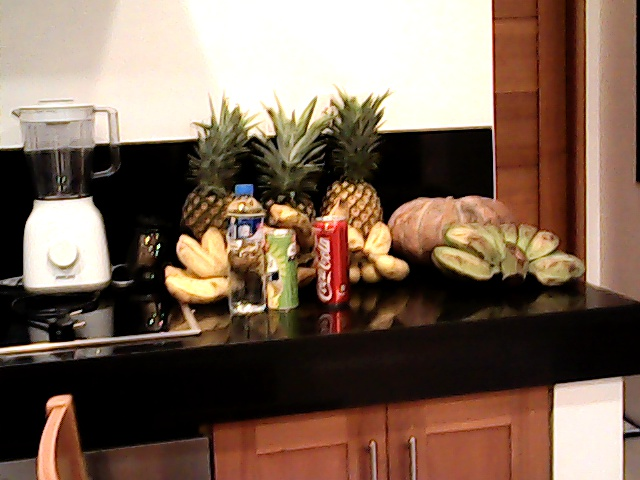Cola: (308, 210, 357, 309)
Pine Juice: (260, 224, 303, 318)
Summit Water: (219, 177, 266, 320)
